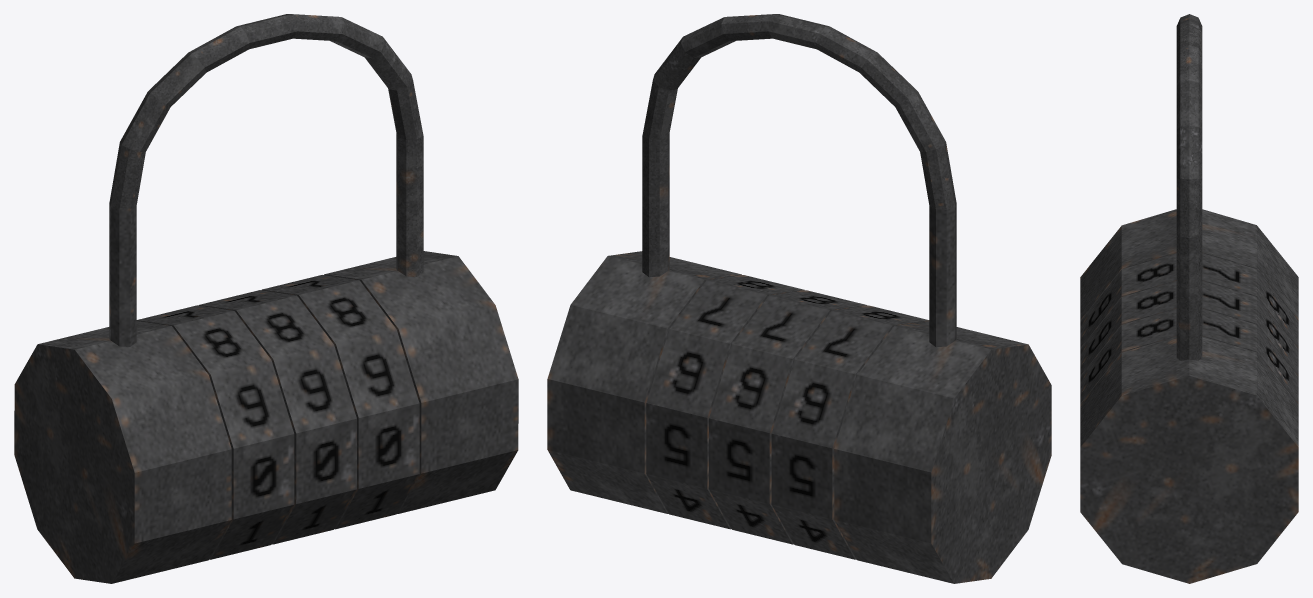
File: Pad Lock.fbx
3 views of the same model, side by side, from view 1: azimuth 30°, elevation 25°; view 2: azimuth 150°, elevation 25°; view 3: azimuth 270°, elevation 25° (orthographic). The views are drawn at different scales.
Parts seen in each view (by area): view 1: Body, Locker, Dial1, Dial3, Dial2; view 2: Body, Locker, Dial1, Dial3, Dial2; view 3: Body, Locker, Dial1, Dial2, Dial3.
Boxes of the visible parts, x1=… form: Body: x1=14, y1=251, x2=518, y2=583; Locker: x1=109, y1=14, x2=423, y2=346; Dial1: x1=136, y1=305, x2=294, y2=559; Dial3: x1=261, y1=275, x2=419, y2=529; Dial2: x1=199, y1=290, x2=356, y2=544; Body: x1=547, y1=251, x2=1051, y2=583; Locker: x1=642, y1=14, x2=956, y2=347; Dial1: x1=771, y1=305, x2=929, y2=559; Dial3: x1=646, y1=275, x2=804, y2=529; Dial2: x1=709, y1=290, x2=867, y2=544; Body: x1=1080, y1=209, x2=1298, y2=583; Locker: x1=1176, y1=14, x2=1202, y2=360; Dial1: x1=1080, y1=253, x2=1298, y2=348; Dial2: x1=1080, y1=281, x2=1298, y2=376; Dial3: x1=1080, y1=308, x2=1298, y2=403.
Size of the model in its own units: 0.1754 by 0.2233 by 0.0952.
